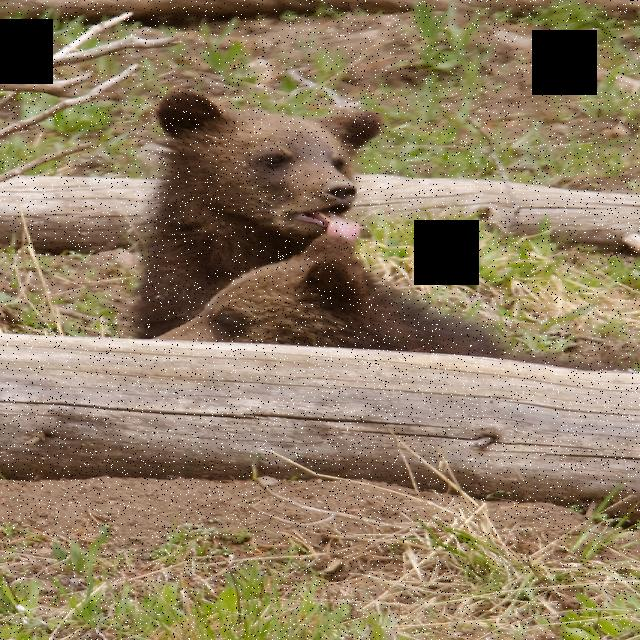Bear: (112, 89, 564, 359)
